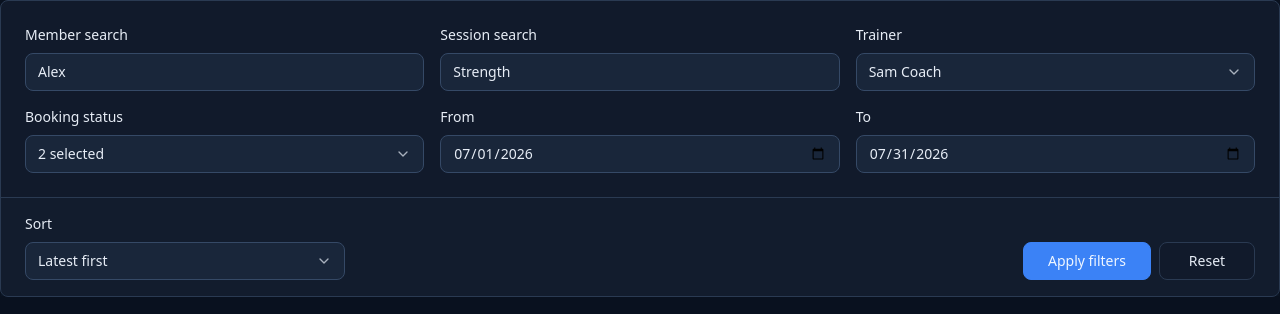
Test: BookingsFilters › resets every draft filter and navigates to the base URL
This screenshot has width=1280, height=314.
Click the button "Reset".
click(1207, 261)  # box [1159,242,1255,280]
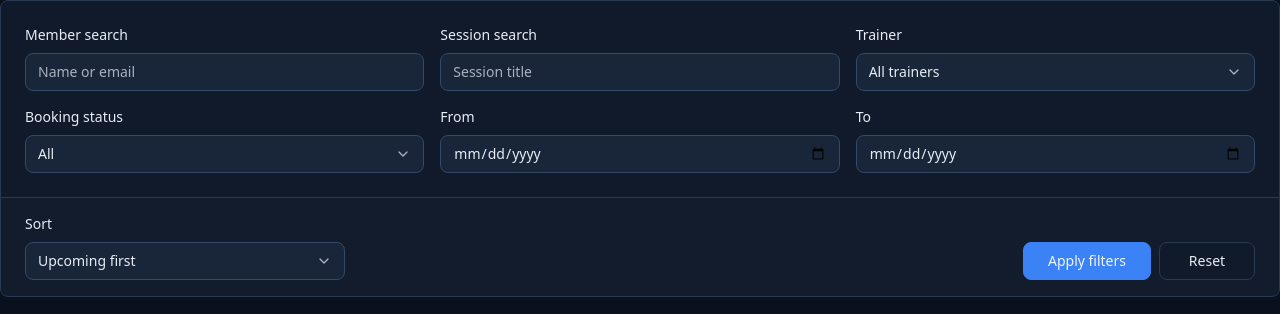
Expected: the search field labelled "Member search" is empty, [25,53,424,91]
Expected: the search field labelled "Session search" is empty, [440,53,840,91]
Expected: the button with aria-label "Trainer: All trainers" is shown, [856,53,1255,91]
